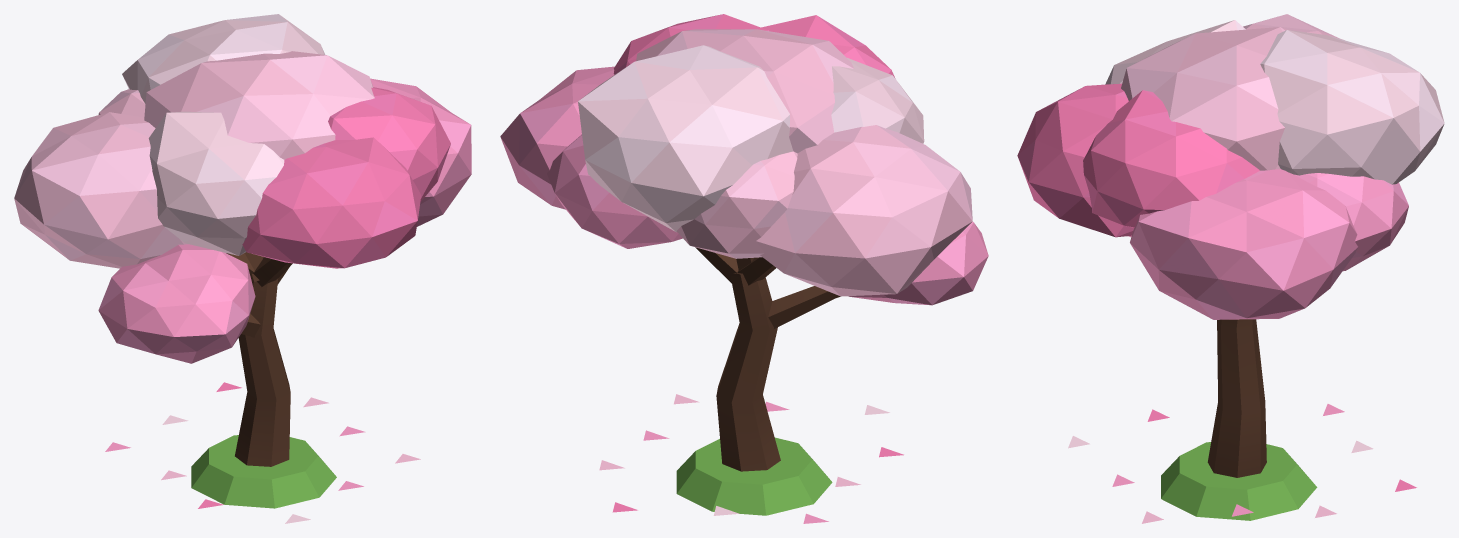
Rendered from sakura-tree.glb.
3 views of the same model, side by side, from view 1: azimuth 30°, elevation 25°; view 2: azimuth 150°, elevation 25°; view 3: azimuth 270°, elevation 25° (orthographic). The views are drawn at different scales.
Visible parts, largest first — view 1: sakura-tree; view 2: sakura-tree; view 3: sakura-tree.
Boxes of the visible parts, x1,y1,x2,y2 form: sakura-tree: (14,14,471,523); sakura-tree: (500,14,988,523); sakura-tree: (1017,14,1444,523).
Bounding box in the file's own units: 10.47 × 9.76 × 8.47.
1 material, 1 textured.
